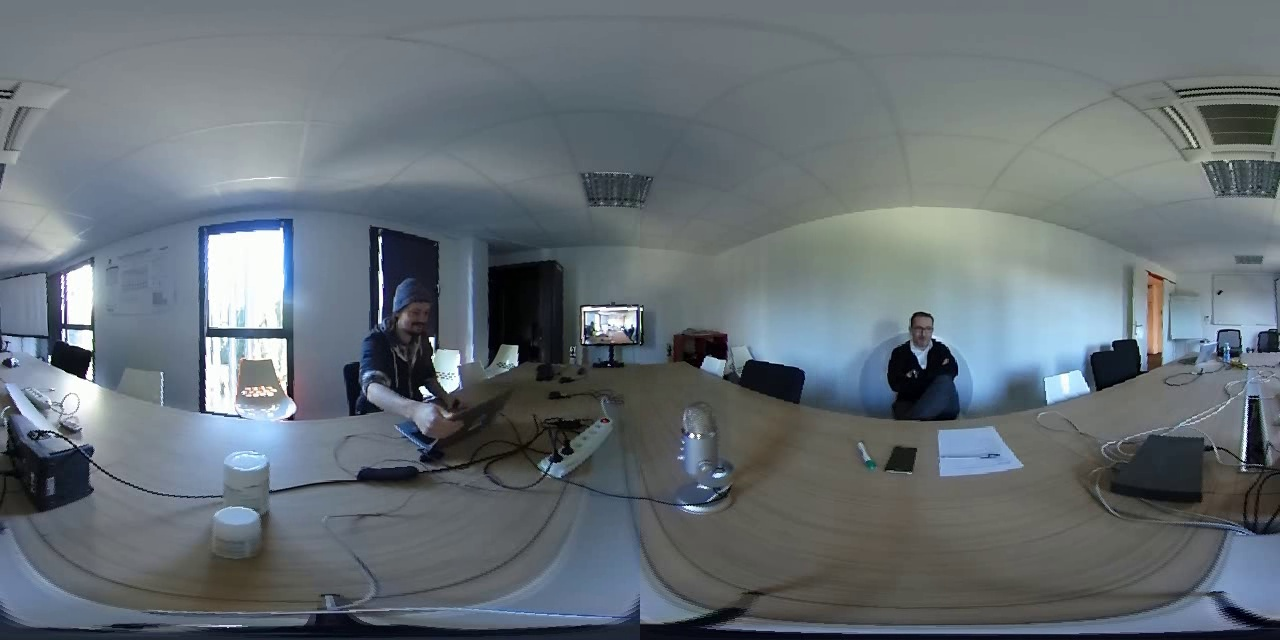person: (356, 258, 461, 425), (877, 298, 977, 447)
